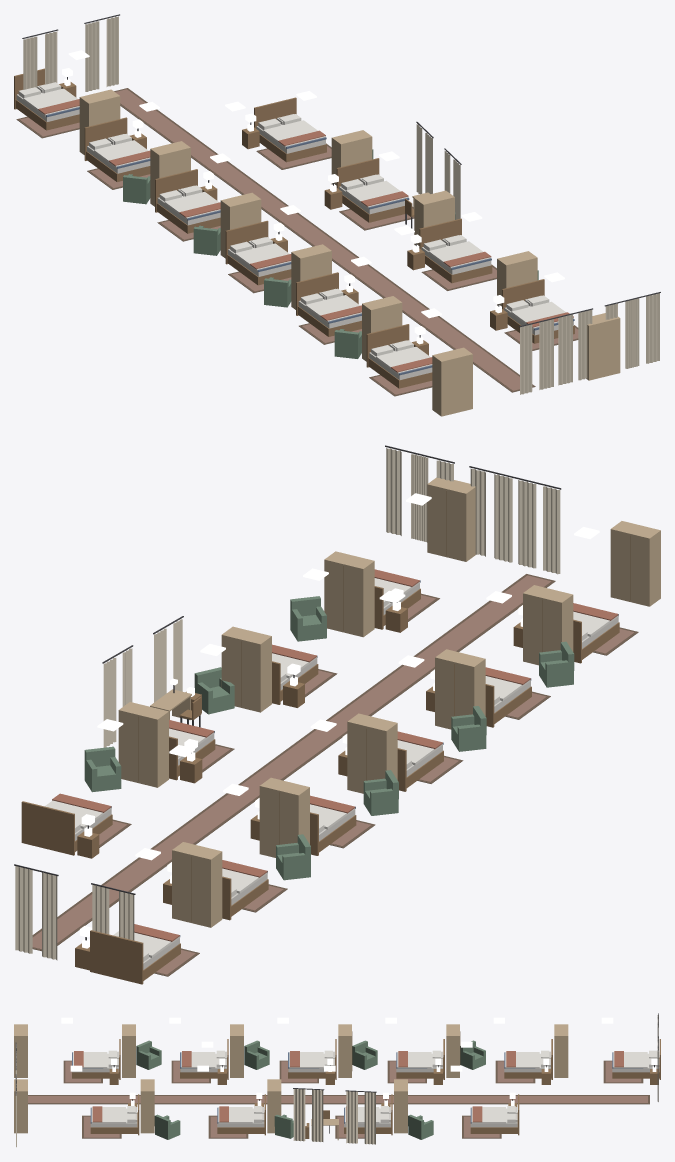
The model's file is fine-s3.glb.
3 renders of one model, top to bottom at view 1: azimuth 30°, elevation 25°; view 2: azimuth 150°, elevation 25°; view 3: azimuth 270°, elevation 25°, orthographic. The views are drawn at different scales.
Parts seen in each view (by area): view 1: soft-s3, dresser.029, dresser.023, bed-frame.020, bed-frame.022, bed-frame.029, bed-frame.021, bed-frame.027, bed-frame.025, bed-frame.026, bed-frame.028, dresser.026 (+13 smaller); view 2: soft-s3, dresser.024, dresser.029, dresser.022, dresser.020, dresser.023, dresser.021, dresser.026, dresser.027, dresser.025, dresser.028, bed-frame.024 (+16 smaller); view 3: soft-s3, dresser.022, dresser.024, dresser.026, dresser.020, dresser.027, dresser.028, dresser.025, dresser.029, dresser.023, bed-frame.020, bed-frame.023 (+16 smaller).
Boxes of the visible parts, bbox=[...] form: soft-s3: bbox=[16, 14, 660, 396]; dresser.029: bbox=[432, 347, 472, 416]; dresser.023: bbox=[586, 313, 620, 380]; bed-frame.020: bbox=[254, 97, 326, 162]; bed-frame.022: bbox=[419, 218, 492, 283]; bed-frame.029: bbox=[366, 324, 432, 388]; bed-frame.021: bbox=[336, 158, 409, 222]; bed-frame.027: bbox=[225, 220, 291, 285]; bed-frame.025: bbox=[84, 117, 150, 181]; bed-frame.026: bbox=[155, 169, 220, 233]; bed-frame.028: bbox=[296, 272, 361, 336]; dresser.026: bbox=[220, 192, 261, 258]; soft-s3: bbox=[14, 445, 638, 976]; dresser.024: bbox=[172, 842, 222, 927]; dresser.029: bbox=[610, 521, 660, 606]; dresser.022: bbox=[324, 551, 374, 637]; dresser.020: bbox=[118, 702, 168, 787]; dresser.023: bbox=[427, 477, 476, 561]; dresser.021: bbox=[221, 626, 271, 712]; dresser.026: bbox=[347, 713, 397, 793]; dresser.027: bbox=[435, 649, 485, 729]; dresser.025: bbox=[259, 777, 309, 857]; dresser.028: bbox=[523, 585, 573, 665]; bed-frame.024: bbox=[90, 930, 180, 984]; soft-s3: bbox=[15, 1013, 658, 1147]; dresser.022: bbox=[140, 1079, 154, 1133]; dresser.024: bbox=[554, 1024, 568, 1077]; dresser.026: bbox=[338, 1024, 352, 1077]; dresser.020: bbox=[394, 1079, 407, 1133]; dresser.027: bbox=[230, 1024, 243, 1077]; dresser.028: bbox=[122, 1024, 135, 1077]; dresser.025: bbox=[446, 1024, 460, 1077]; dresser.029: bbox=[14, 1024, 27, 1077]; dresser.023: bbox=[14, 1079, 27, 1133]; bed-frame.020: bbox=[470, 1094, 519, 1135]; bed-frame.023: bbox=[90, 1094, 139, 1135].
Bounding box in the file's own units: 9.12 × 2.65 × 27.9.
